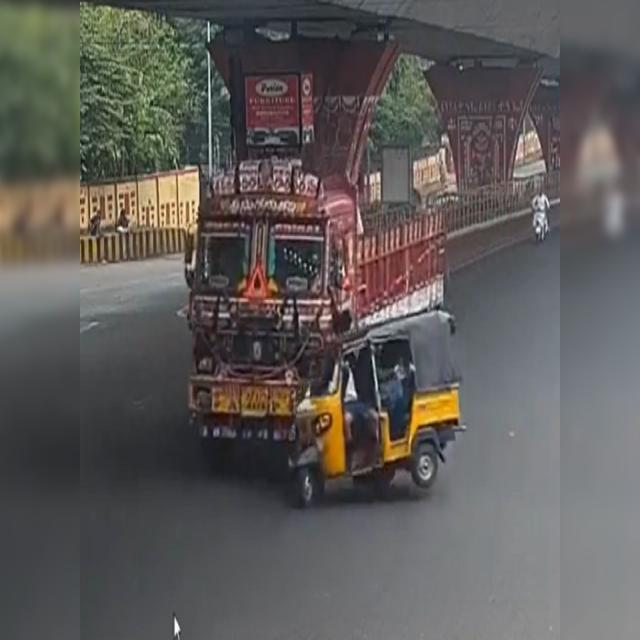accident: (290, 311, 460, 503)
truck: (189, 160, 445, 440)
